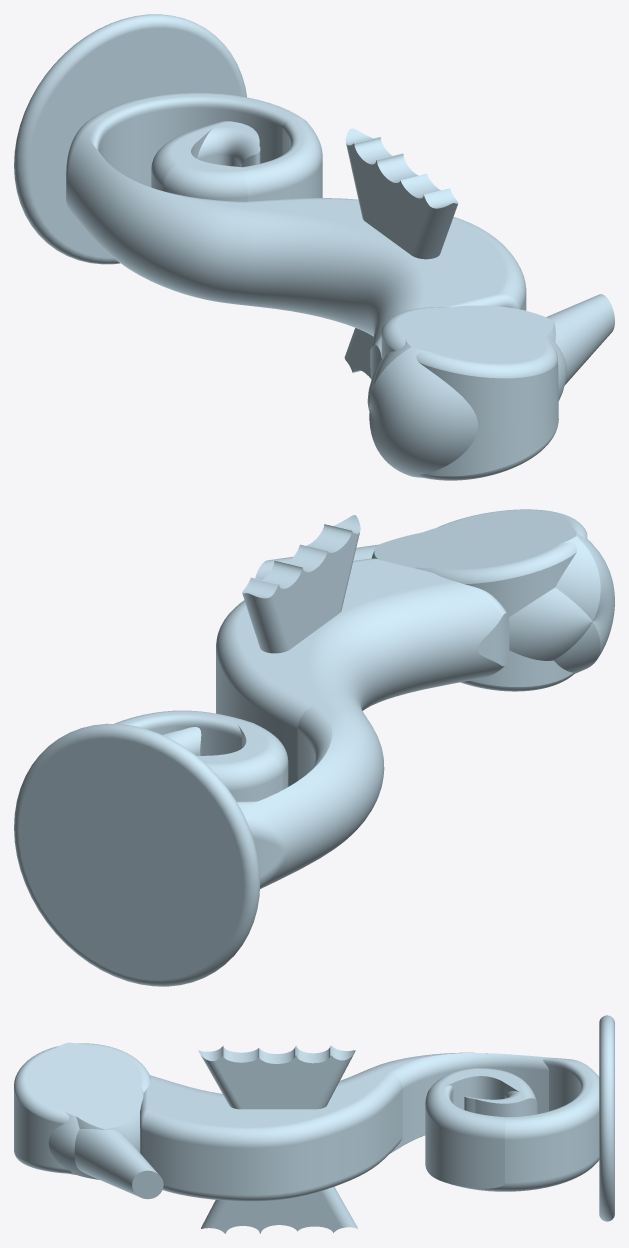
Rendered from seahorse.gltf.
3 renders of one model, top to bottom at view 1: azimuth 30°, elevation 25°; view 2: azimuth 150°, elevation 25°; view 3: azimuth 270°, elevation 25°, orthographic. The views are drawn at different scales.
Parts seen in each view (by area): view 1: mesh60_meshnode_60, mesh2_meshnode_2, mesh91_meshnode_91, mesh61_meshnode_61, mesh85_meshnode_85, mesh1_meshnode_1, mesh31_meshnode_31, mesh94_meshnode_94, mesh68_meshnode_68, mesh96_meshnode_96, mesh95_meshnode_95, mesh8_meshnode_8 (+14 smaller); view 2: mesh0_meshnode_0, mesh60_meshnode_60, mesh1_meshnode_1, mesh85_meshnode_85, mesh61_meshnode_61, mesh68_meshnode_68, mesh54_meshnode_54, mesh34_meshnode_34, mesh35_meshnode_35, mesh49_meshnode_49, mesh47_meshnode_47, mesh48_meshnode_48 (+17 smaller); view 3: mesh35_meshnode_35, mesh85_meshnode_85, mesh34_meshnode_34, mesh61_meshnode_61, mesh69_meshnode_69, mesh9_meshnode_9, mesh3_meshnode_3, mesh96_meshnode_96, mesh81_meshnode_81, mesh1_meshnode_1, mesh42_meshnode_42, mesh33_meshnode_33 (+24 smaller).
Part boxes in pixels (bbox=[...]): mesh60_meshnode_60: bbox=[67, 120, 425, 347]; mesh2_meshnode_2: bbox=[29, 28, 240, 257]; mesh91_meshnode_91: bbox=[369, 347, 477, 477]; mesh61_meshnode_61: bbox=[205, 200, 505, 307]; mesh85_meshnode_85: bbox=[397, 305, 553, 363]; mesh1_meshnode_1: bbox=[14, 14, 246, 264]; mesh31_meshnode_31: bbox=[98, 108, 282, 187]; mesh94_meshnode_94: bbox=[420, 363, 522, 476]; mesh68_meshnode_68: bbox=[348, 143, 429, 255]; mesh96_meshnode_96: bbox=[546, 294, 614, 385]; mesh95_meshnode_95: bbox=[522, 361, 558, 459]; mesh8_meshnode_8: bbox=[242, 117, 322, 196]; mesh0_meshnode_0: bbox=[19, 738, 244, 979]; mesh60_meshnode_60: bbox=[238, 581, 501, 888]; mesh1_meshnode_1: bbox=[14, 723, 260, 986]; mesh85_meshnode_85: bbox=[374, 510, 576, 568]; mesh61_meshnode_61: bbox=[237, 560, 452, 720]; mesh68_meshnode_68: bbox=[272, 531, 357, 649]; mesh54_meshnode_54: bbox=[509, 587, 592, 660]; mesh34_meshnode_34: bbox=[216, 558, 375, 729]; mesh35_meshnode_35: bbox=[216, 651, 297, 786]; mesh49_meshnode_49: bbox=[465, 552, 576, 617]; mesh47_meshnode_47: bbox=[427, 542, 576, 584]; mesh48_meshnode_48: bbox=[555, 536, 600, 620]; mesh35_meshnode_35: bbox=[142, 1090, 402, 1194]; mesh85_meshnode_85: bbox=[25, 1042, 142, 1129]; mesh34_meshnode_34: bbox=[142, 1072, 402, 1148]; mesh61_meshnode_61: bbox=[147, 1062, 406, 1127]; mesh69_meshnode_69: bbox=[215, 1055, 339, 1109]; mesh9_meshnode_9: bbox=[425, 1109, 504, 1188]; mesh3_meshnode_3: bbox=[505, 1113, 599, 1182]; mesh96_meshnode_96: bbox=[74, 1129, 157, 1196]; mesh81_meshnode_81: bbox=[216, 1191, 341, 1233]; mesh1_meshnode_1: bbox=[599, 1015, 614, 1221]; mesh42_meshnode_42: bbox=[391, 1067, 548, 1152]; mesh33_meshnode_33: bbox=[389, 1053, 553, 1088].
Size of the model in its own units: 0.0842 by 0.0666 by 0.1943.
